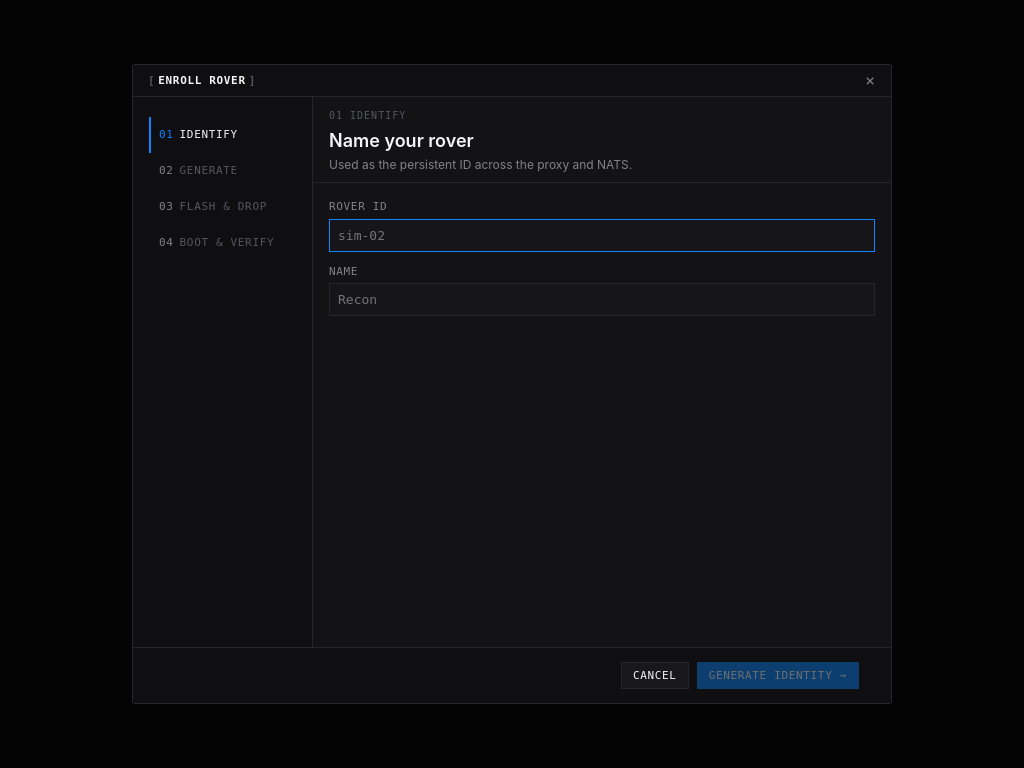
Test: EnrollRoverWizard — step 01 (Identify) › shows an inline error for invalid rover ID
The image size is (1024, 768).
Type "Bad ID!" into the field labelled "Rover ID".
click(602, 235); type("Bad ID!")  # box [329,218,875,252]
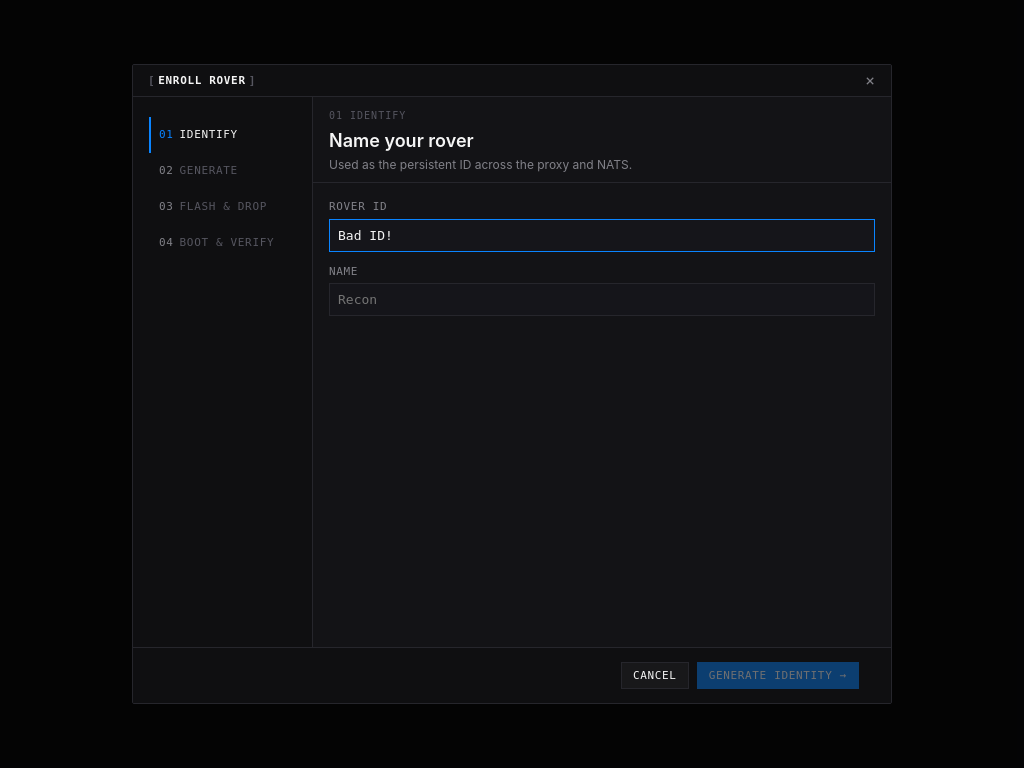
Leave the field labelled "Rover ID", box [329,218,875,252]
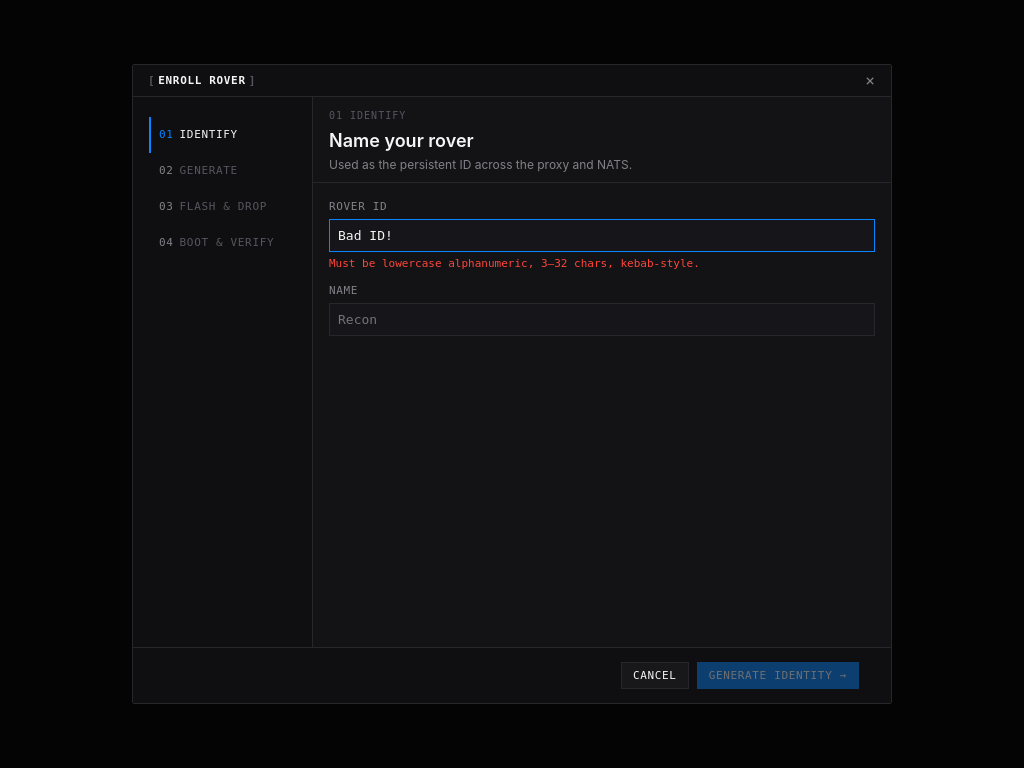
Expected: the text "Must be lowercase alphanumeric, 3–32 chars, kebab-style." is shown, [329,256,700,270]
